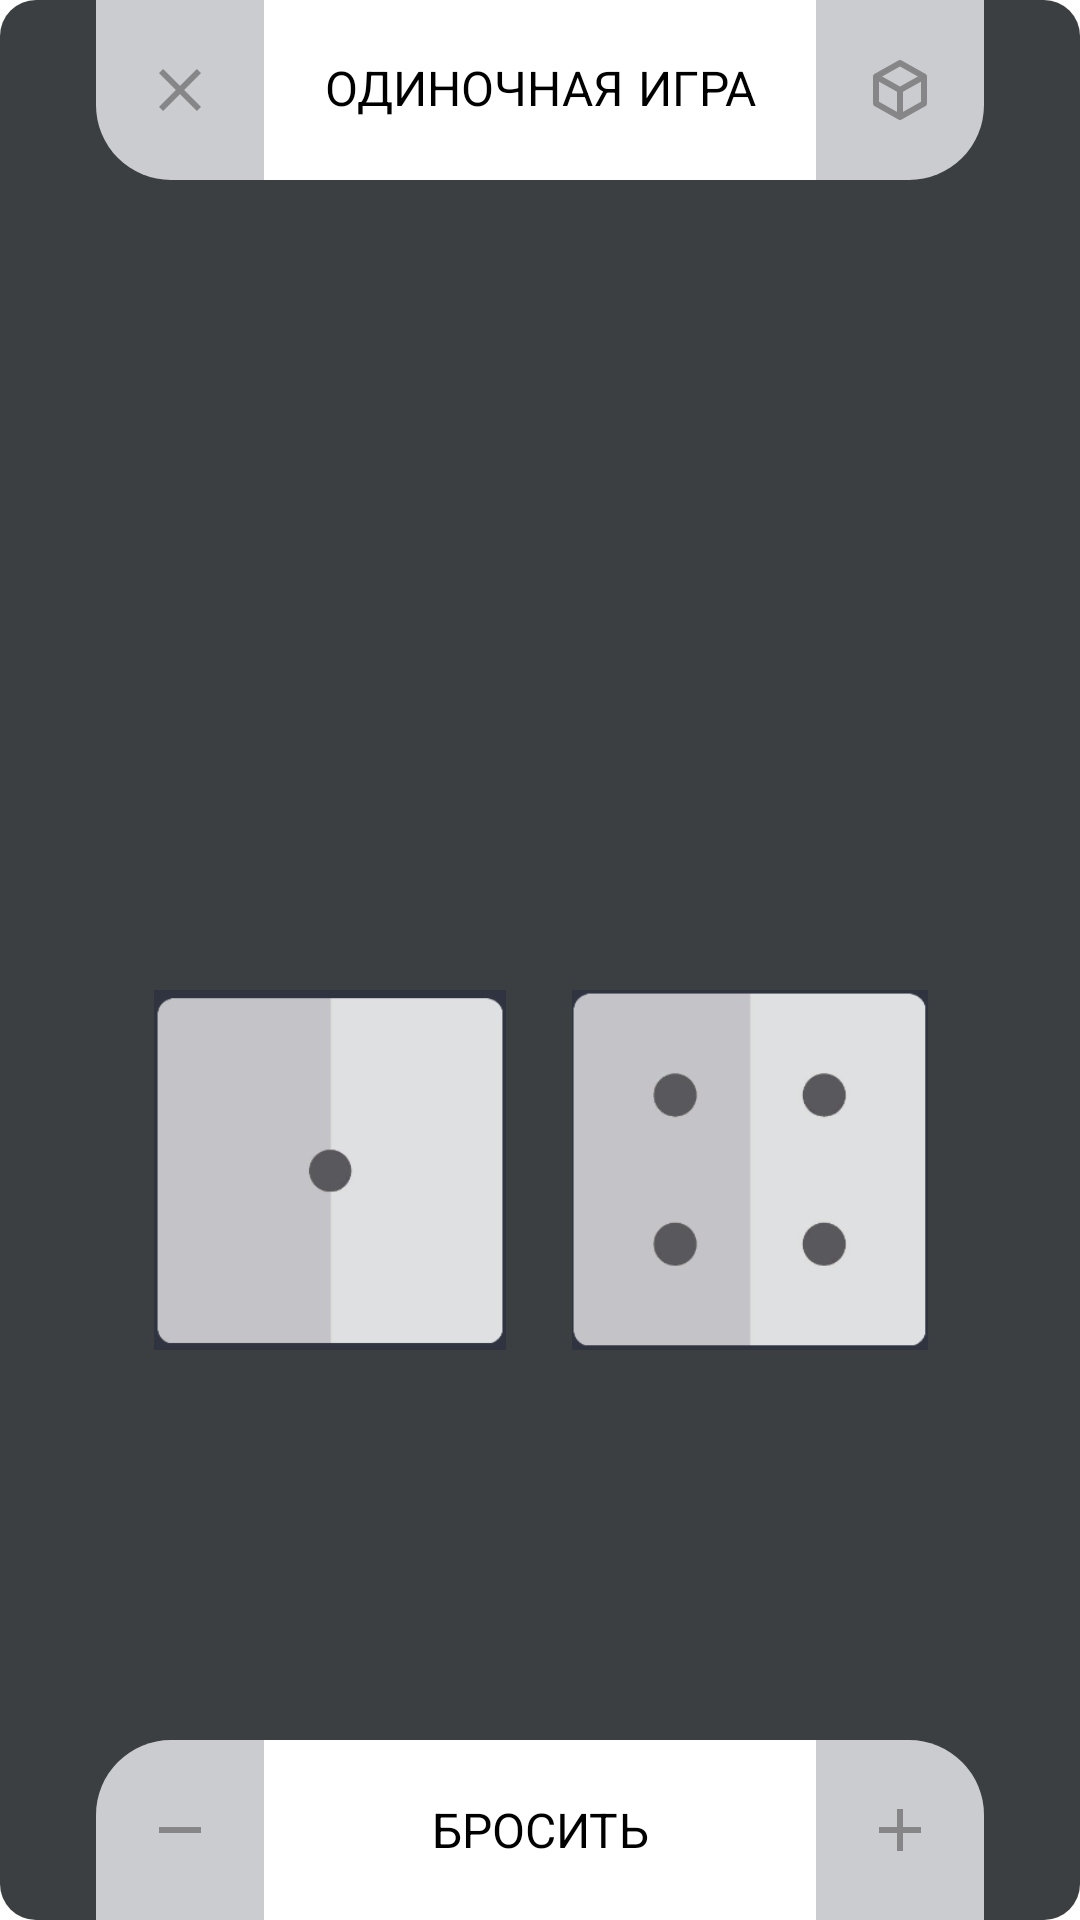

Named icons in this screenshot (1080w x 1920h) and their centers, (x=x, y=y):
close: (x=180, y=90)
cube: (x=900, y=90)
plus: (x=900, y=1830)
